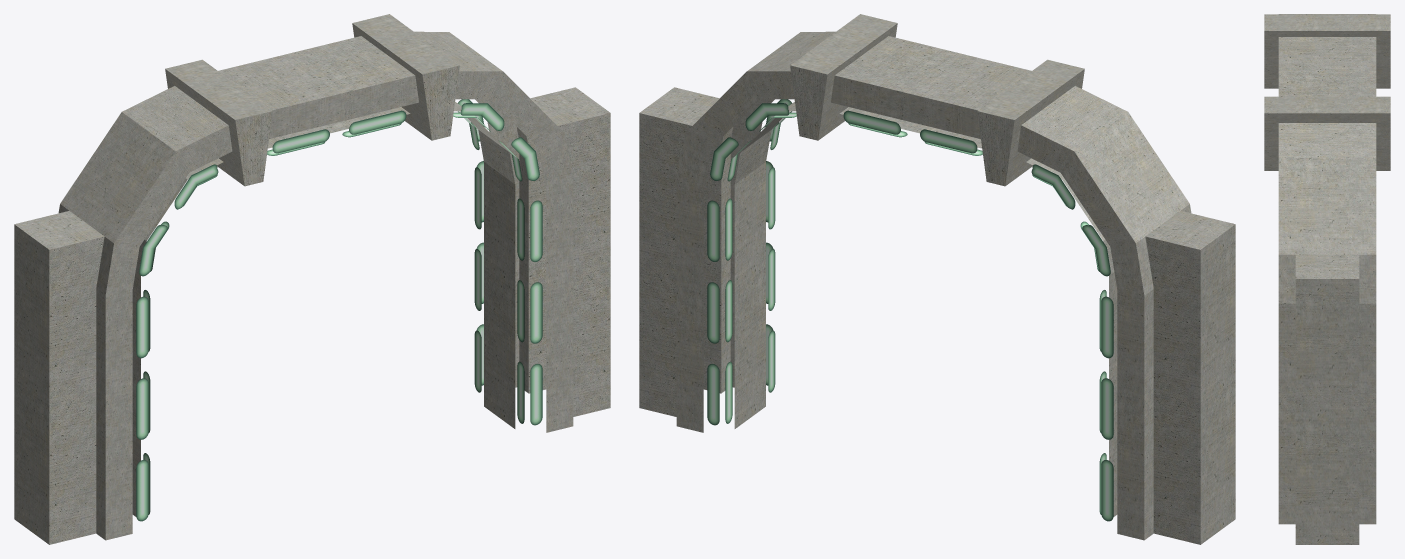
File: thm_corl_imprv_arch_lg_s02_l1.fbx
3 renders of one model, left to right at view 1: azimuth 30°, elevation 25°; view 2: azimuth 150°, elevation 25°; view 3: azimuth 270°, elevation 25°, orthographic. The views are drawn at different scales.
Visible parts, largest first — view 1: mesh_node; view 2: mesh_node; view 3: mesh_node.
Boxes of the visible parts, box(x1,y1,x2,y2) form: mesh_node: box(14, 14, 610, 544); mesh_node: box(639, 14, 1235, 544); mesh_node: box(1264, 14, 1390, 544).
Bounding box in the file's own units: 12 × 8.1 × 2.6.
Materials: 2 (2 with a texture image).
